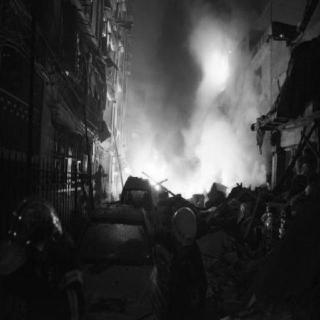Fire: (131, 26, 259, 192)
